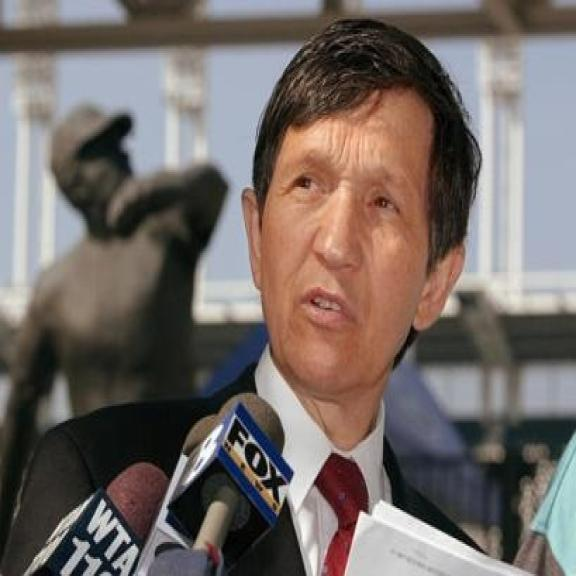face: (237, 79, 466, 404)
